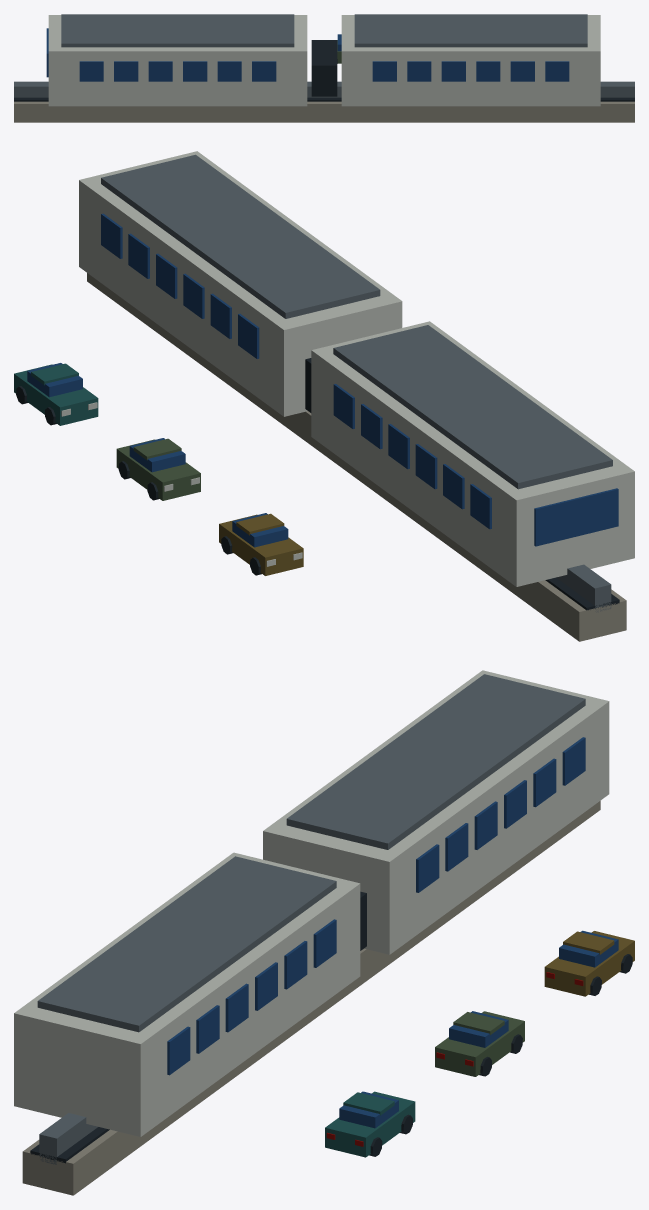
Rendered from maglevtrain6.glb.
3 renders of one model, top to bottom at view 1: azimuth 30°, elevation 25°; view 2: azimuth 150°, elevation 25°; view 3: azimuth 270°, elevation 25°, orthographic. The views are drawn at different scales.
Visible parts, largest first — view 1: maglevtrain6; view 2: maglevtrain6; view 3: maglevtrain6.
Part boxes in pixels (box(x1,y1,x2,y2)): maglevtrain6: box(14, 14, 634, 122); maglevtrain6: box(14, 151, 634, 641); maglevtrain6: box(14, 670, 634, 1195).
Bounding box in the file's own units: 64.35 × 11.05 × 42.4.
